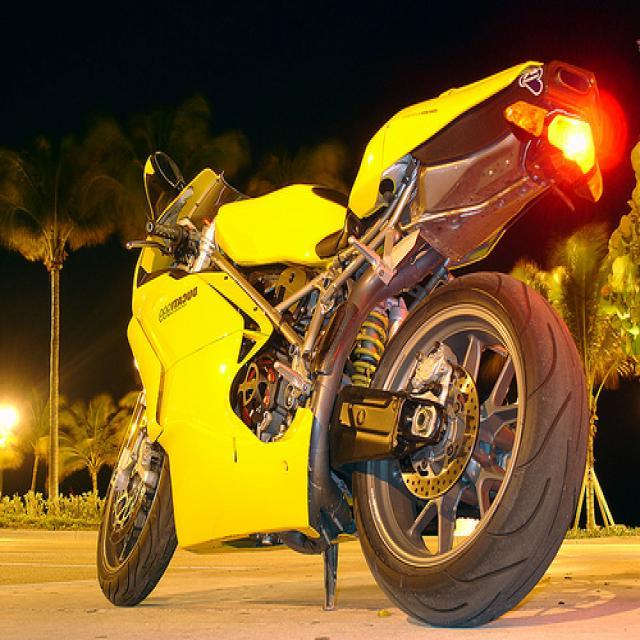Motorbike: (78, 50, 603, 640)
